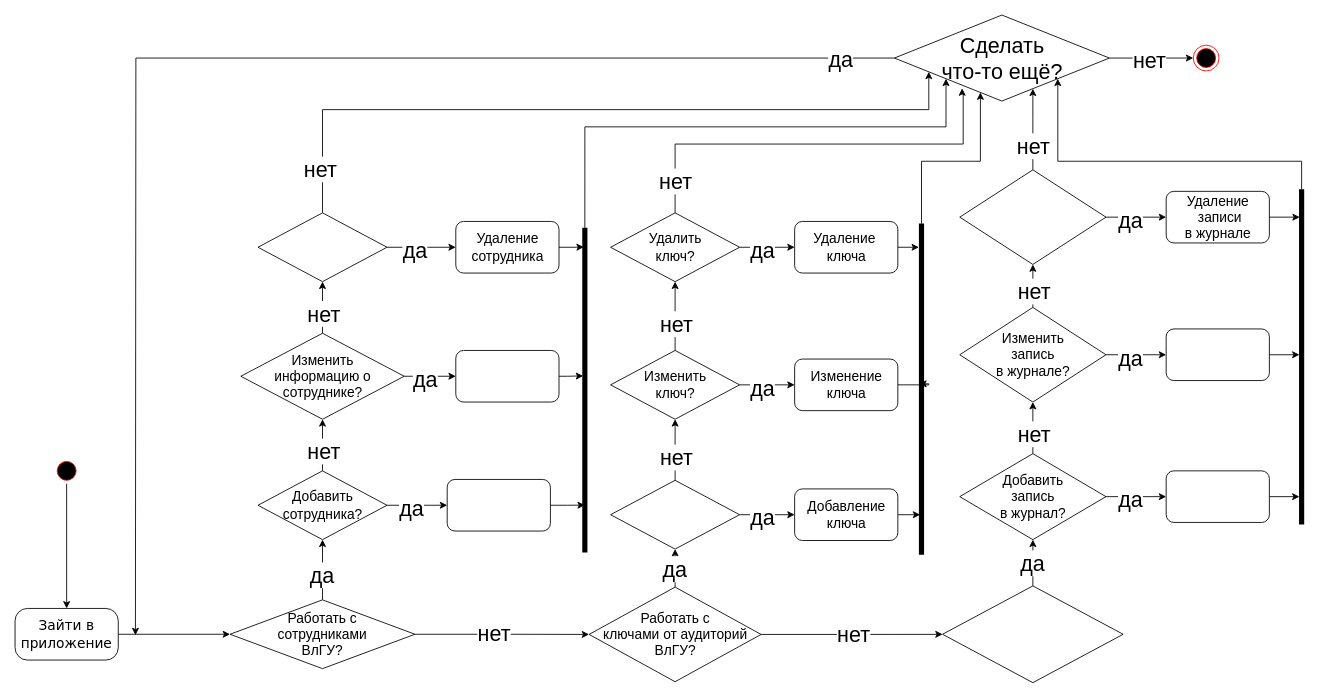
This 1324x698 diagram has some shape labels left out. Here are the shapes that lost their labels. From the top down, the centre of each, then its label:
At [1032,216]: "Удалить запись в журнале?".
At [322,247]: "Удалить сотрудника?".
At [1217,354]: "Изменение записи в журнале".
At [507,376]: "Изменение информации о сотруднике".
At [498,505]: "Добавление сотрудника".
At [675,514]: "Добавить ключ?".
At [1217,496]: "Добавление записи в журнал".
At [1032,634]: "Работать с журналом о передвижении ключей?".
